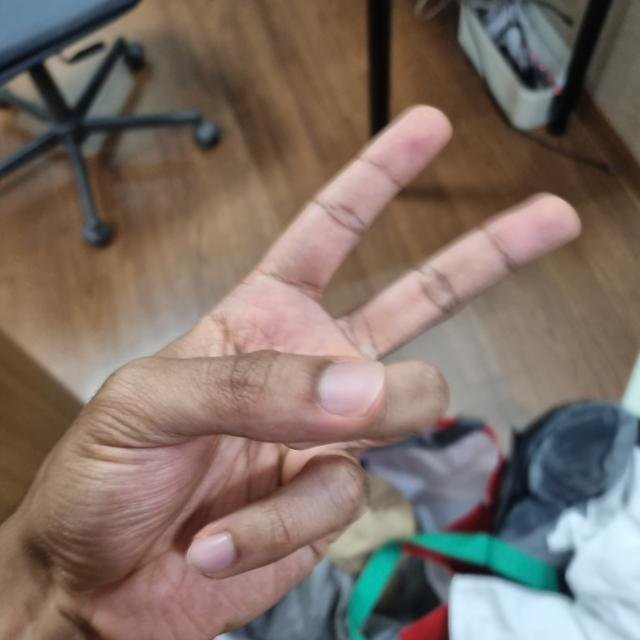Scissors: (7, 110, 573, 640)
